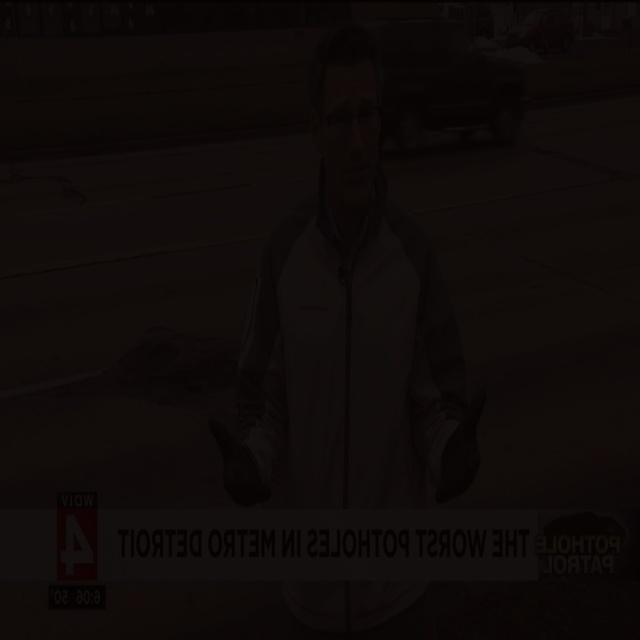Pothole: (60, 329, 239, 400)
